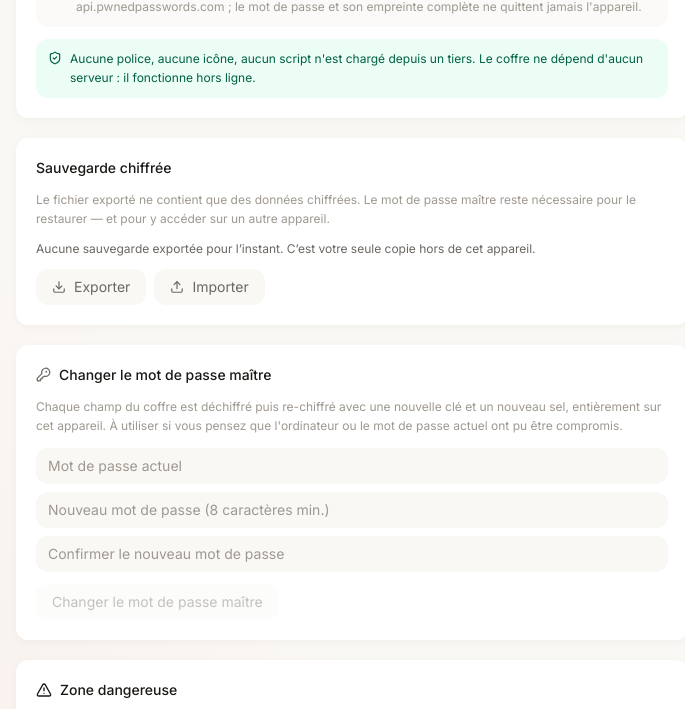
Scenario: SettingsTab — rotation du mot de passe maître › warns when the new password is below the recommended strength
(page scrolled)
Step 1. Type "aaaa" into the password field named "Nouveau mot de passe maître" → (352, 510), box 36,492 -> 668,528
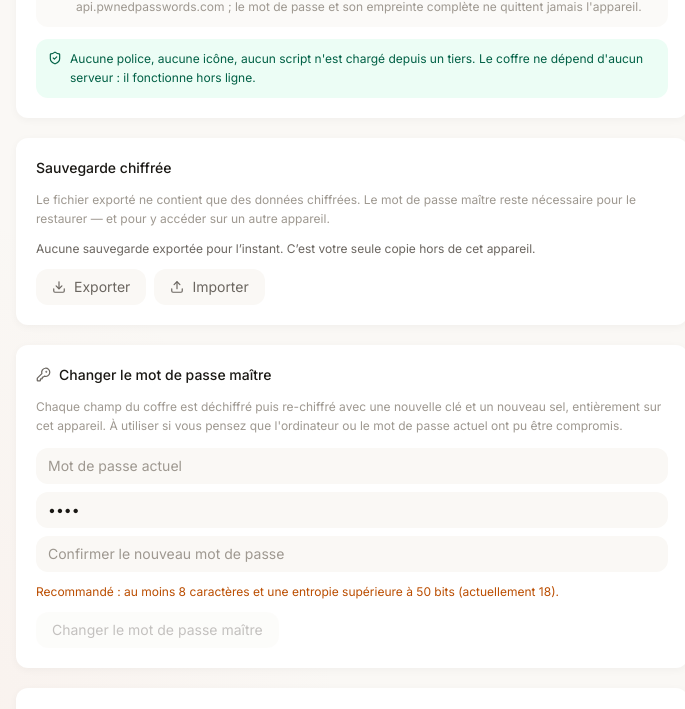
Result: the text "Recommandé : au moins 8 caractères" is shown at 36,584 -> 413,598
